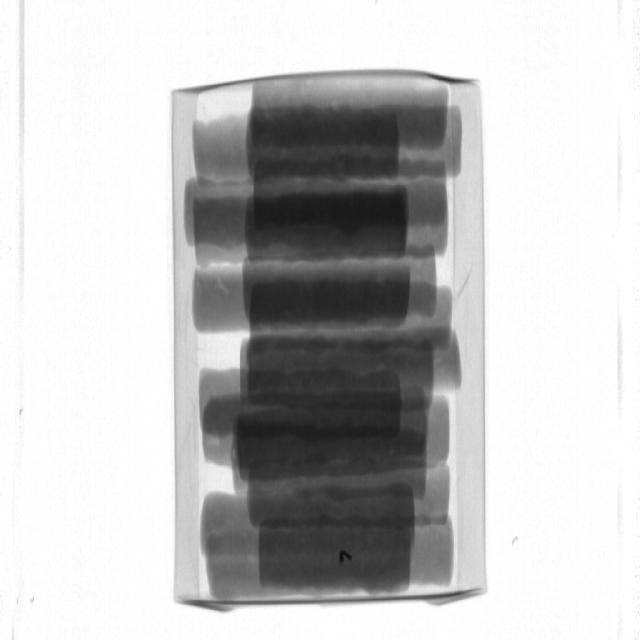ym: (340, 550, 354, 563)
